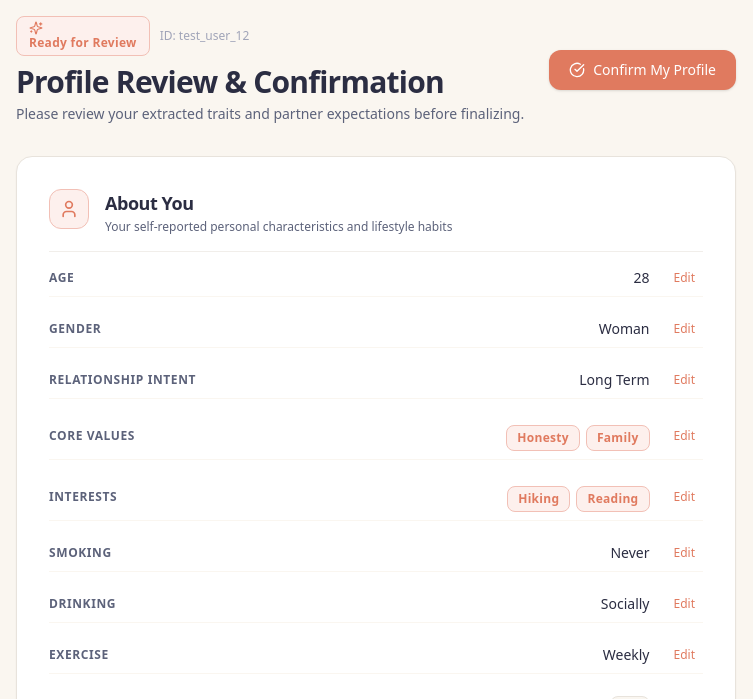
Scenario: ProfileReviewPage Component › 6. handles confirmation POST success but persistence verification failure safely
Click the button "Confirm My Profile": [643, 70] box [549,50,736,90]
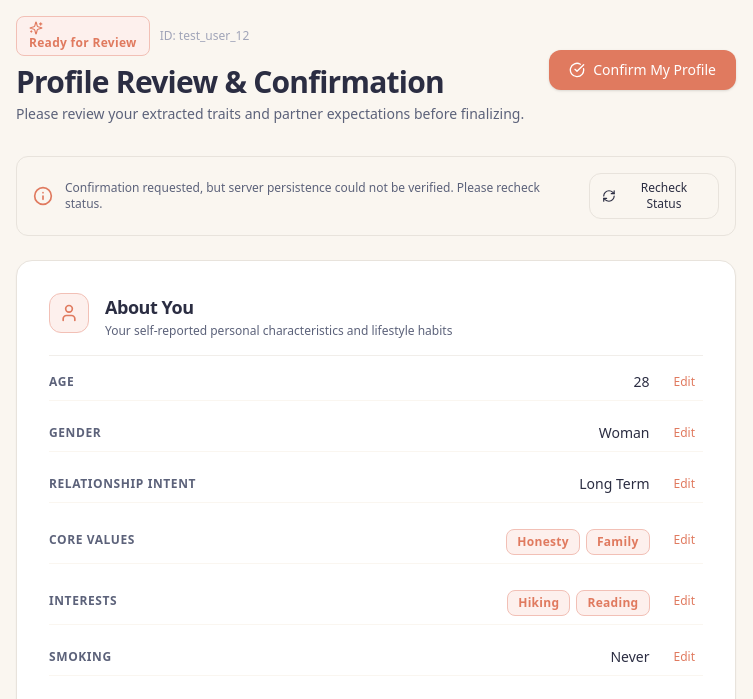
Result: the text "Confirmation requested, but server persistence could not be verified" is shown at [65,179,540,212]
Result: the button "Recheck Status" is shown at [589,173,719,219]
